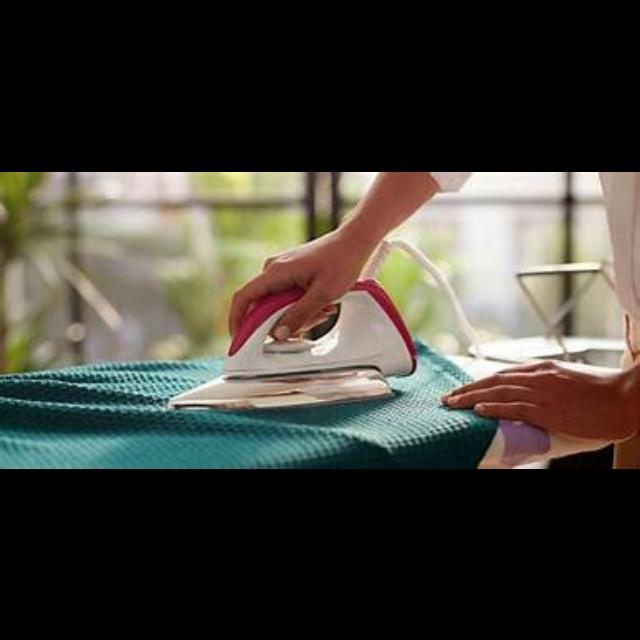Clothes-Iron: (162, 274, 422, 414)
